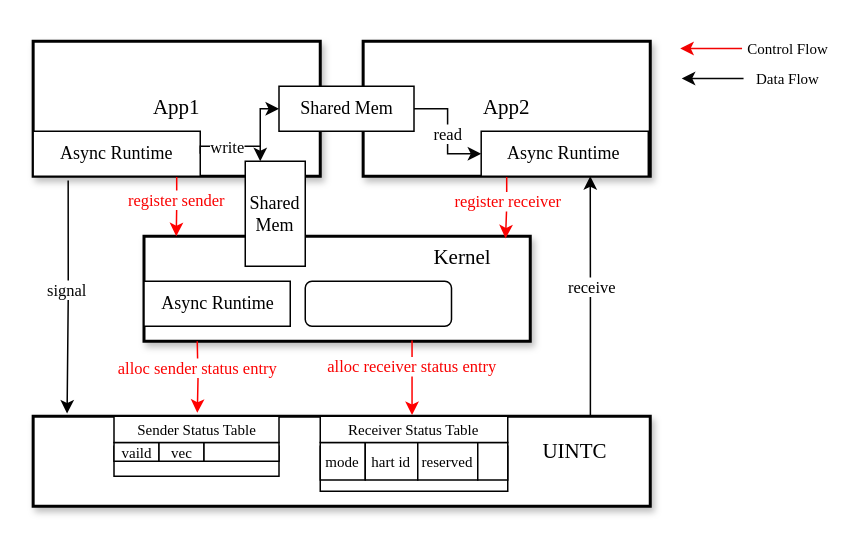
This 860x543 diagram has some shape labels left out. The shapes that lost their labels are listed below. From the top down, each one's centre as x and y in pixels, then its label:
[378,303]: async syscall handler
[240,451]: recv index
[492,460]: irq
